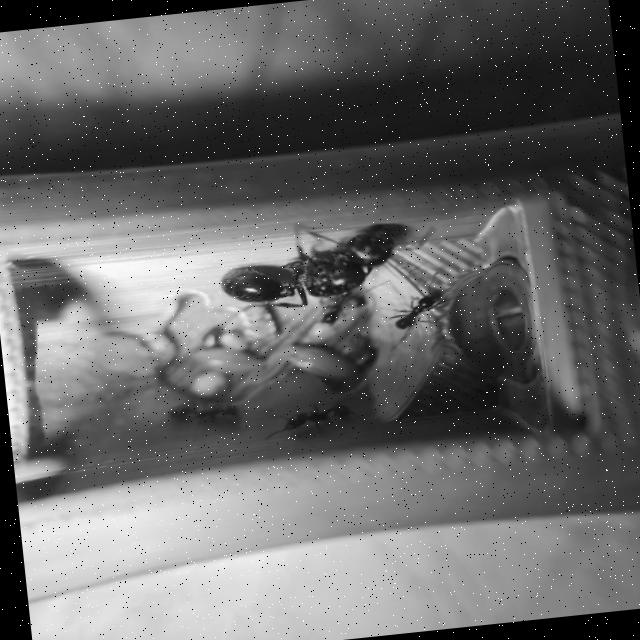Minor: (384, 282, 471, 344), (270, 395, 354, 440)
Queen: (215, 210, 442, 328)
